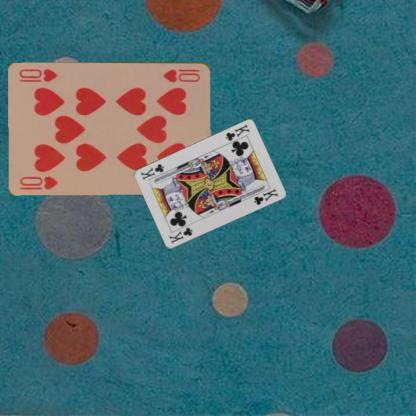10h: (160, 66, 202, 84), (18, 173, 59, 190)
Kc: (166, 225, 194, 245), (223, 122, 251, 142)
